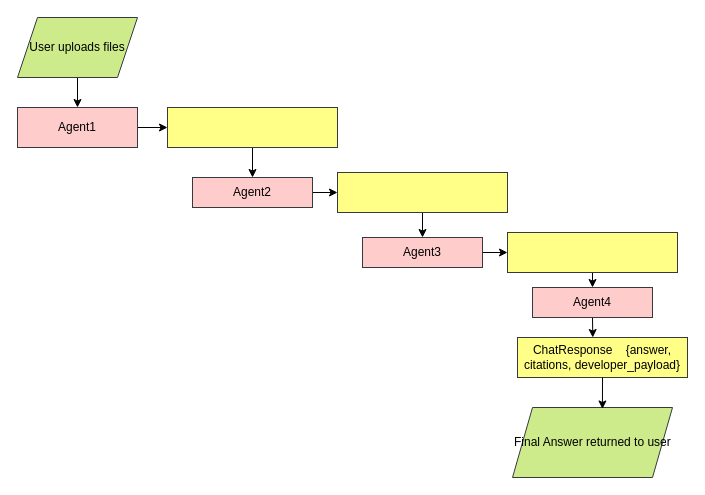
Some shapes in this 705 by 495 pixel diagram are drawn without their labels. Each missing label, with the box of its shape:
Agent1Contract {session_id, status, timestamp, files[]}: (166, 106, 338, 148)
Agent2Contract {session_id, status, extracted_data[]}: (336, 172, 508, 212)
Agent3Contract {session_id, status, total_chunks, chunks[]}: (506, 232, 678, 272)
